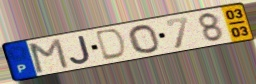7: (164, 14, 192, 49)
8: (197, 12, 227, 43)
D: (95, 27, 128, 62)
J: (68, 34, 93, 65)
M: (28, 37, 71, 75)
O: (126, 24, 162, 55)
